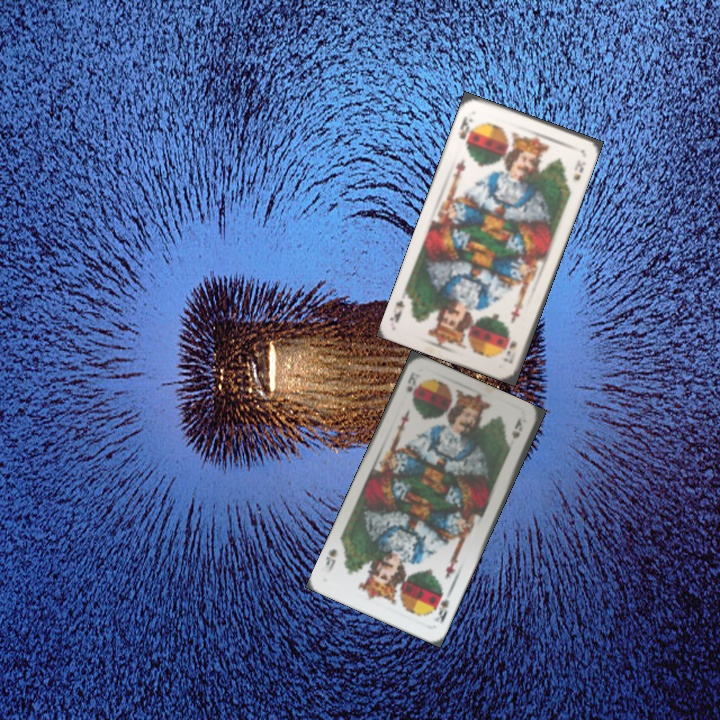SK: (429, 588, 452, 627), (453, 112, 476, 150), (402, 368, 423, 403), (499, 337, 519, 366)
